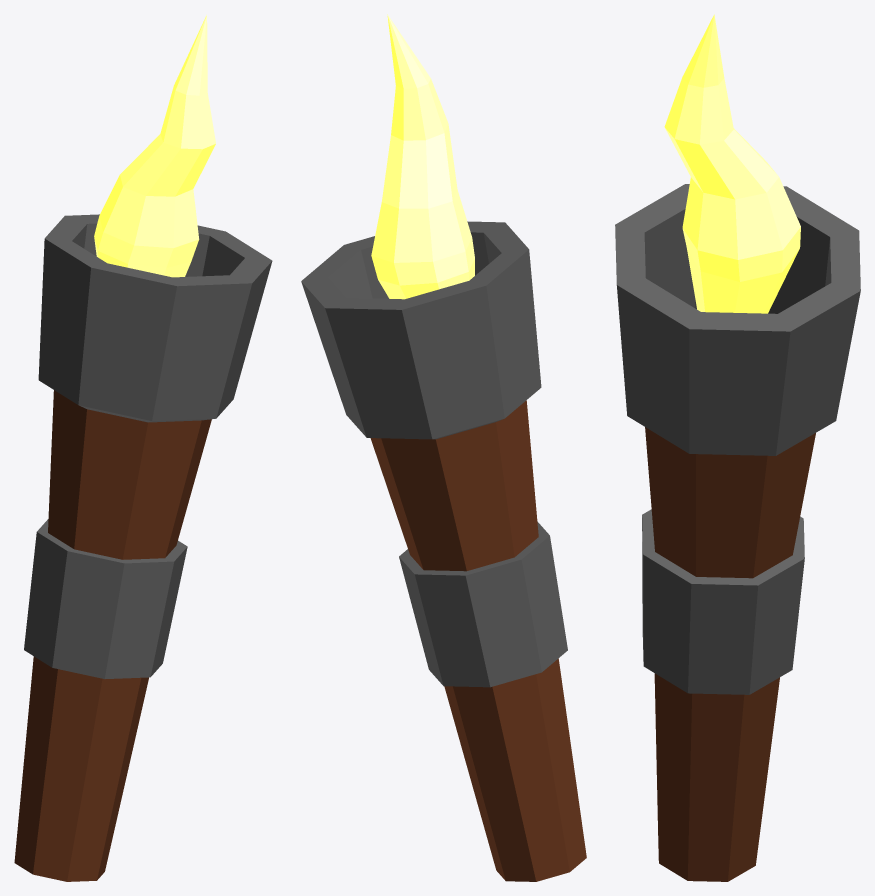
The model's file is torch.fbx.
3 views of the same model, side by side, from view 1: azimuth 30°, elevation 25°; view 2: azimuth 150°, elevation 25°; view 3: azimuth 270°, elevation 25° (orthographic). The views are drawn at different scales.
Parts seen in each view (by area): view 1: torch.007; view 2: torch.007; view 3: torch.007.
Boxes of the visible parts, left/top/right/bottom form: torch.007: left=14, top=15, right=272, bottom=881; torch.007: left=301, top=14, right=586, bottom=881; torch.007: left=615, top=14, right=860, bottom=881.
Size of the model in its own units: 33.96 by 110 by 26.41.
